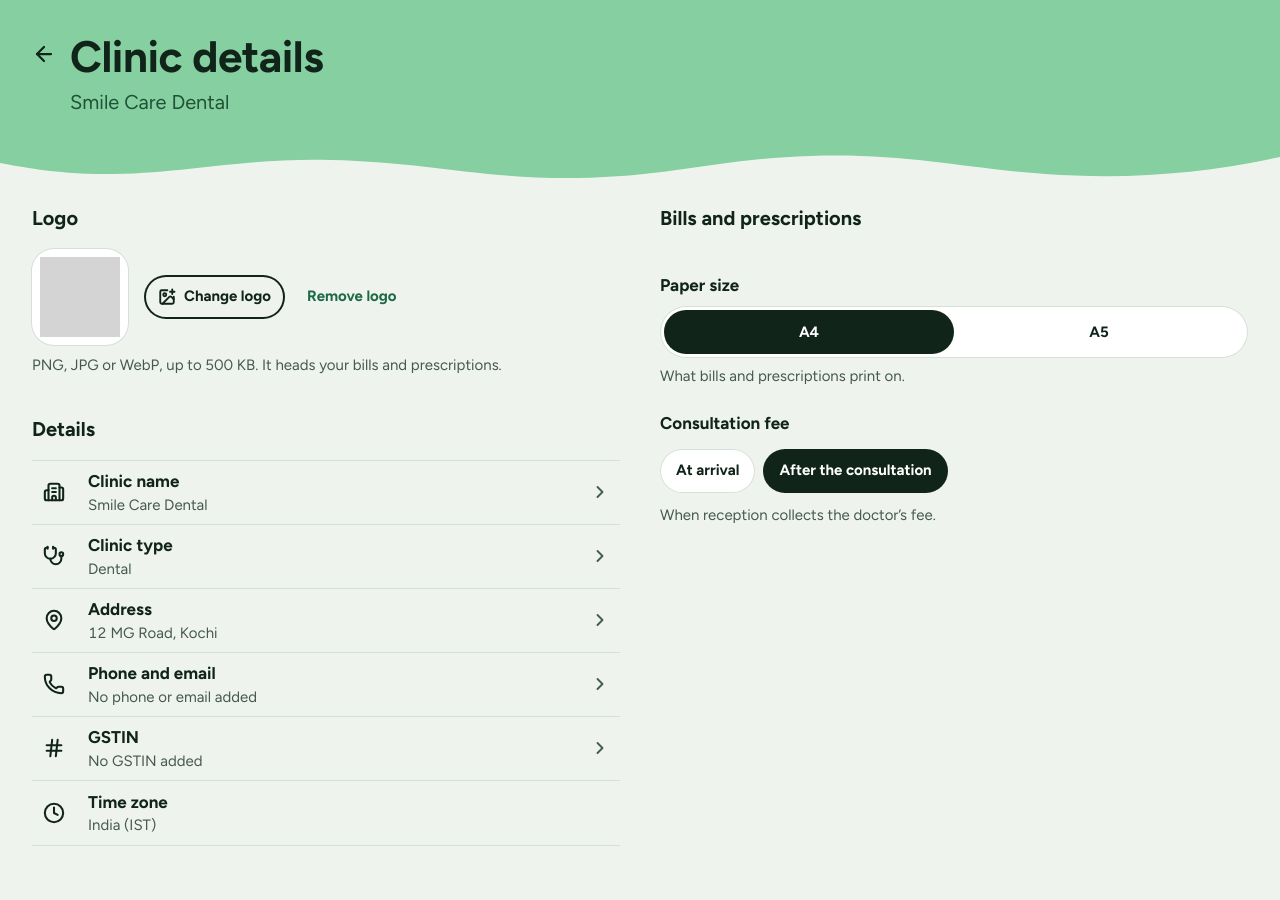
ClinicDetails (plan §9, D78) › puts a choice back, and says why, when it cannot be saved
This screenshot has width=1280, height=900.
Click the radio button labelled "A5" at (1099, 332), box [954, 310, 1244, 354]
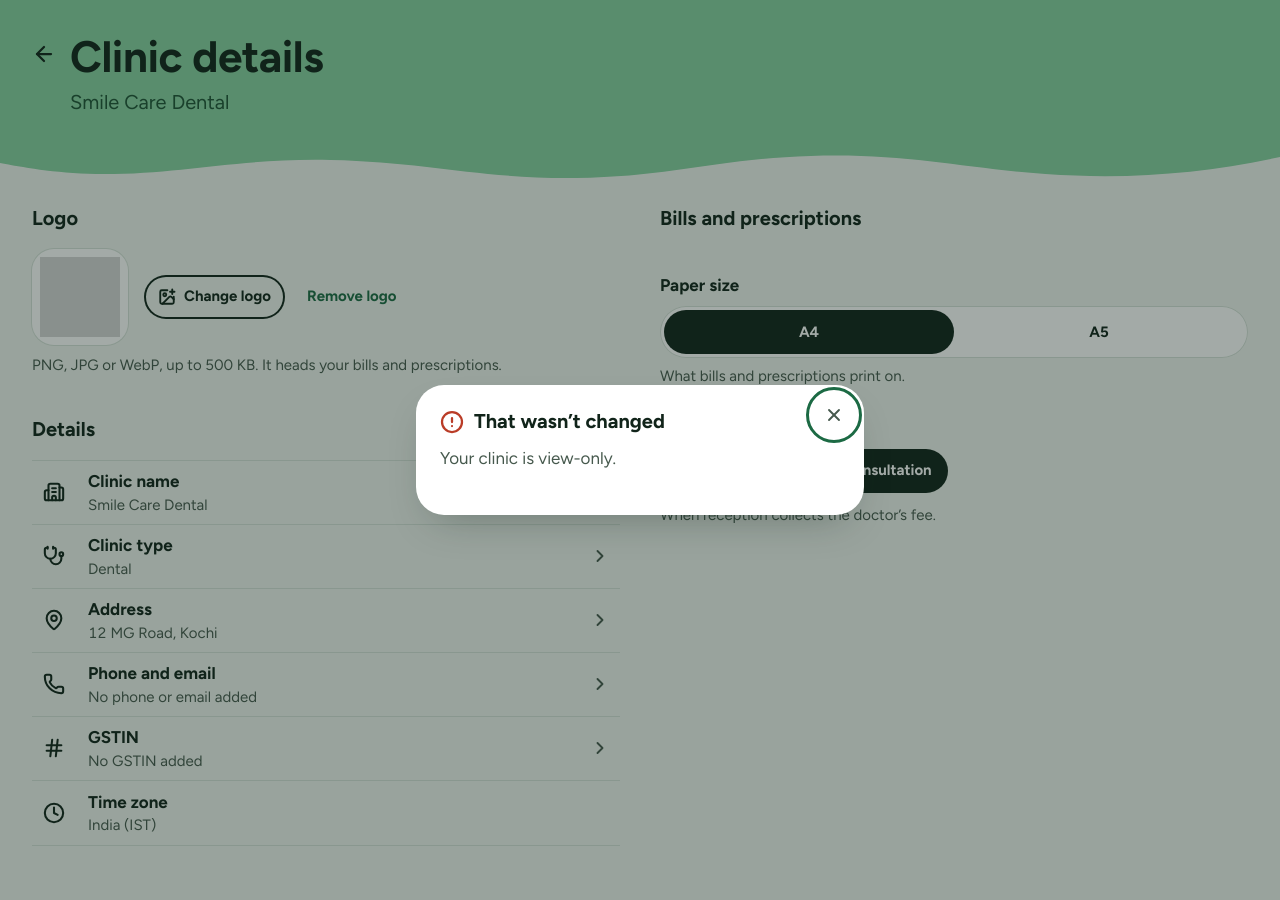
Result: the dialog "That wasn’t changed" shows "Your clinic is view-only." at [440, 448, 616, 468]
Click the button named "Close" at (834, 415), box [812, 393, 856, 437]
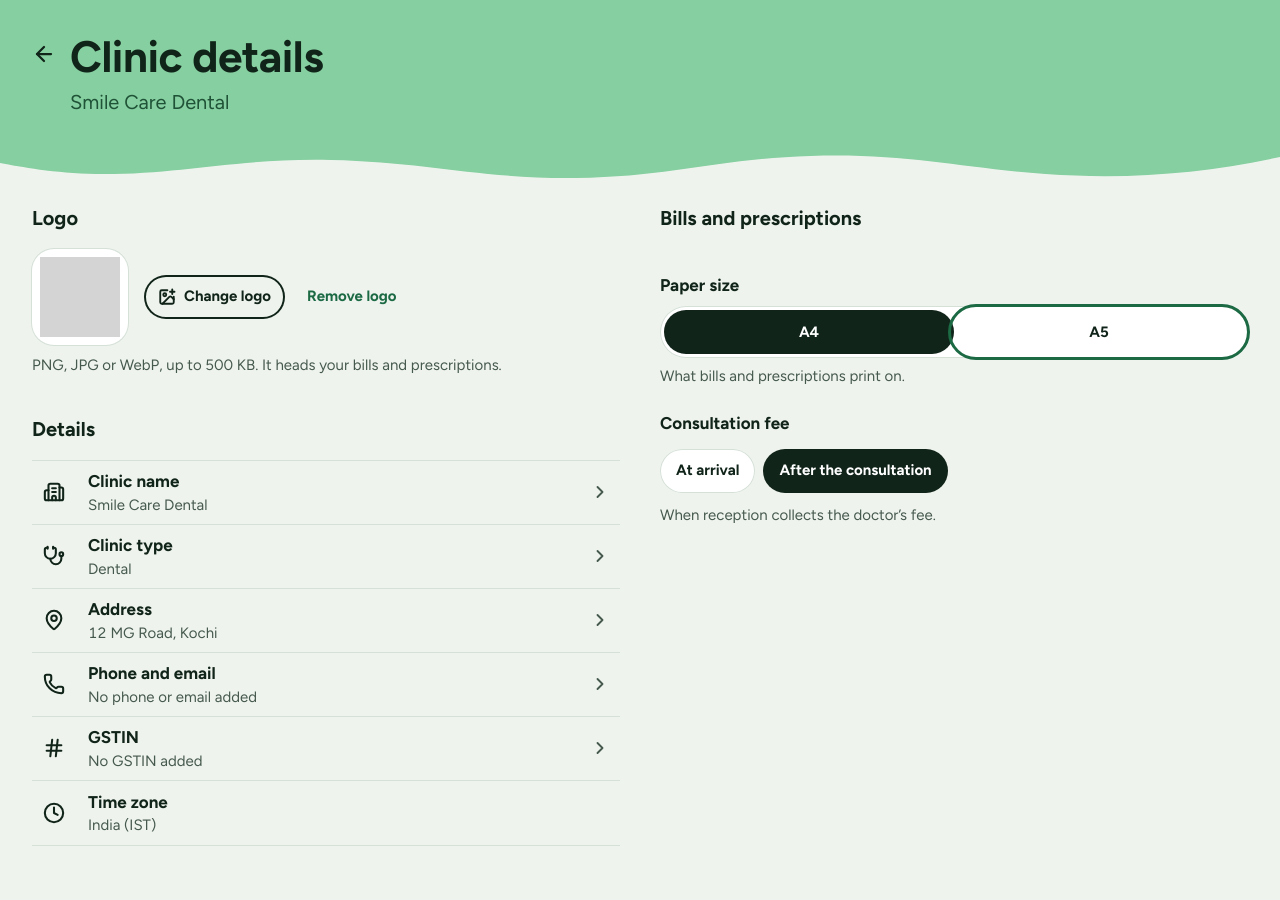
Click the radio button labelled "At arrival" at (708, 471), box [660, 449, 755, 493]
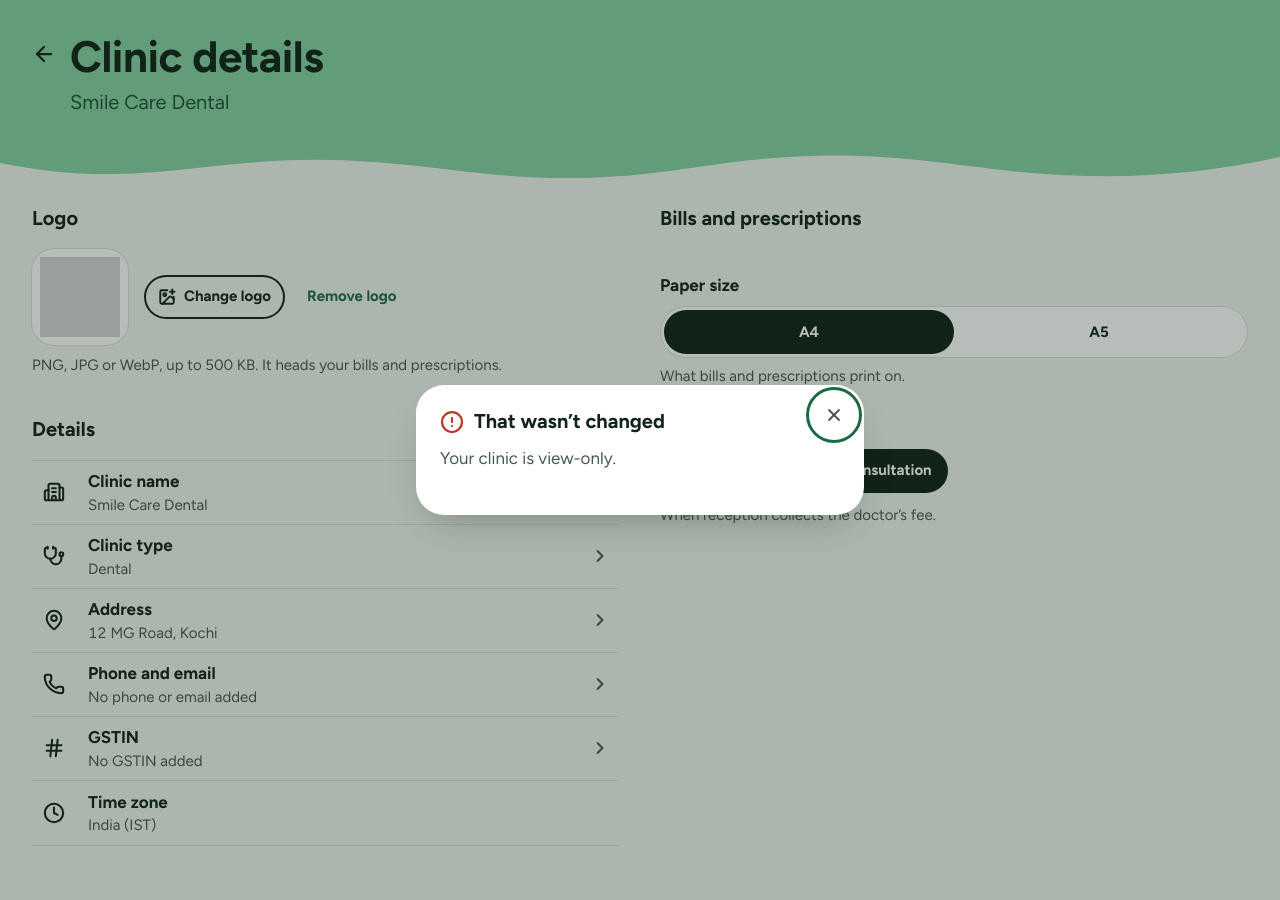
Result: the dialog "That wasn’t changed" is shown at [416, 385, 864, 515]
